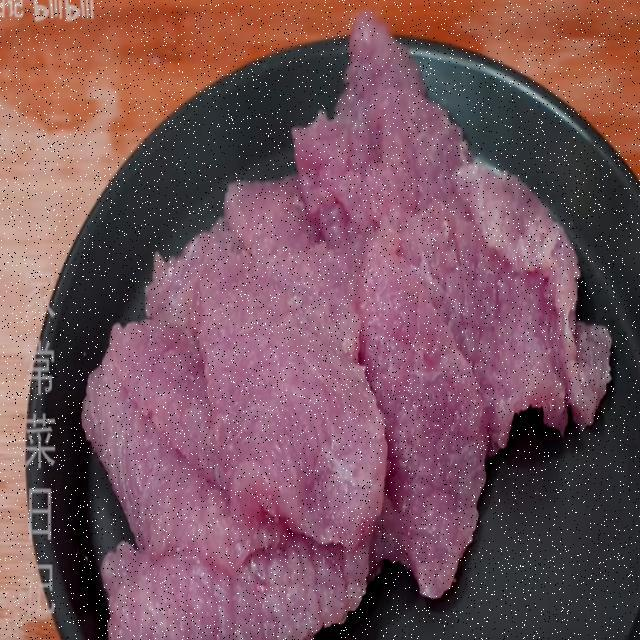pork: (59, 29, 611, 640)
